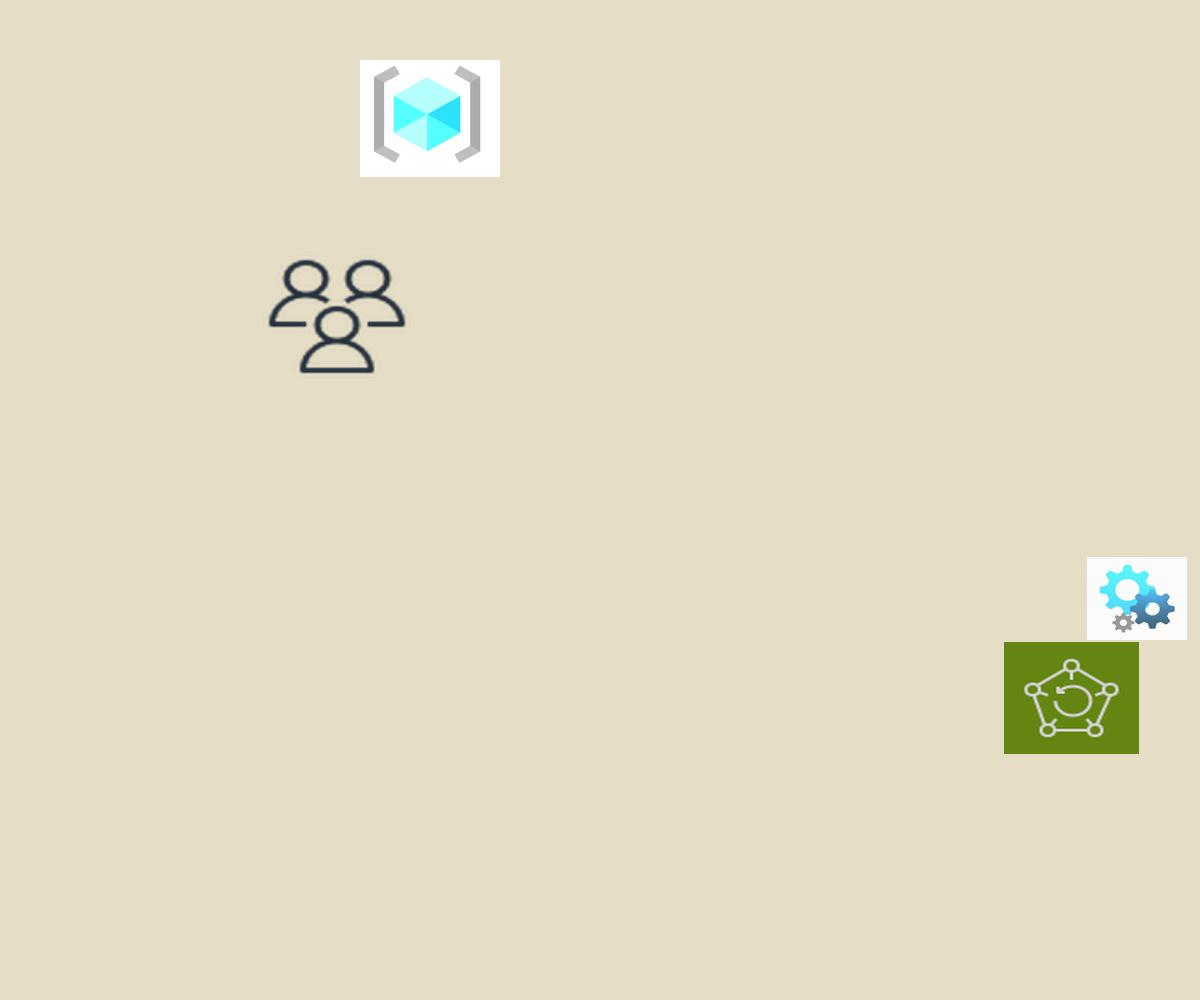AWS-Backup: (1004, 642, 1139, 754)
AWS-Res_Users: (263, 255, 411, 378)
Azure_api: (1087, 557, 1187, 640)
Azure_resource_group: (360, 60, 500, 177)
